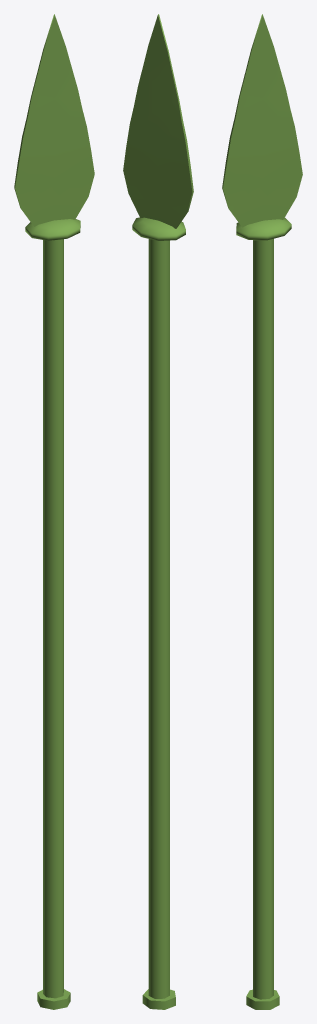
Rendered from Spear.fbx.
The picture shows the model from 3 angles, left to right: view 1: azimuth 90°, elevation 25°; view 2: azimuth 210°, elevation 25°; view 3: azimuth 270°, elevation 25°; orthographic projection.
Visible parts, largest first — view 1: Spear; view 2: Spear; view 3: Spear.
Boxes of the visible parts, x1,y1,x2,y2 form: Spear: (14,14,94,1009); Spear: (123,14,193,1009); Spear: (222,14,302,1009).
Size of the model in its own units: 12.01 by 272 by 20.12.
